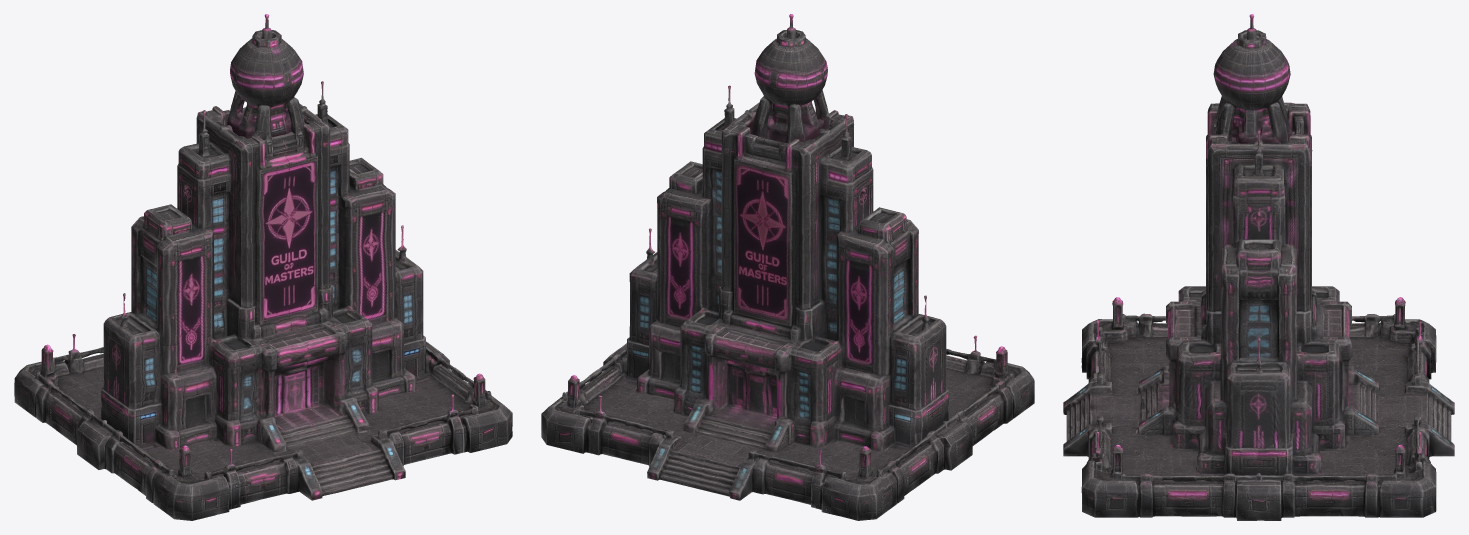
Rendered from s12GuildOfMasters_LOD2.glb.
3 renders of one model, left to right at view 1: azimuth 30°, elevation 25°; view 2: azimuth 150°, elevation 25°; view 3: azimuth 270°, elevation 25°, orthographic. The views are drawn at different scales.
Parts seen in each view (by area): view 1: Mesh_0.010; view 2: Mesh_0.010; view 3: Mesh_0.010.
Boxes of the visible parts, x1,y1,x2,y2 form: Mesh_0.010: (14, 14, 512, 520); Mesh_0.010: (541, 14, 1034, 520); Mesh_0.010: (1063, 14, 1454, 520).
Bounding box in the file's own units: 1.71 × 1.9 × 1.61.
1 material, 1 textured.
